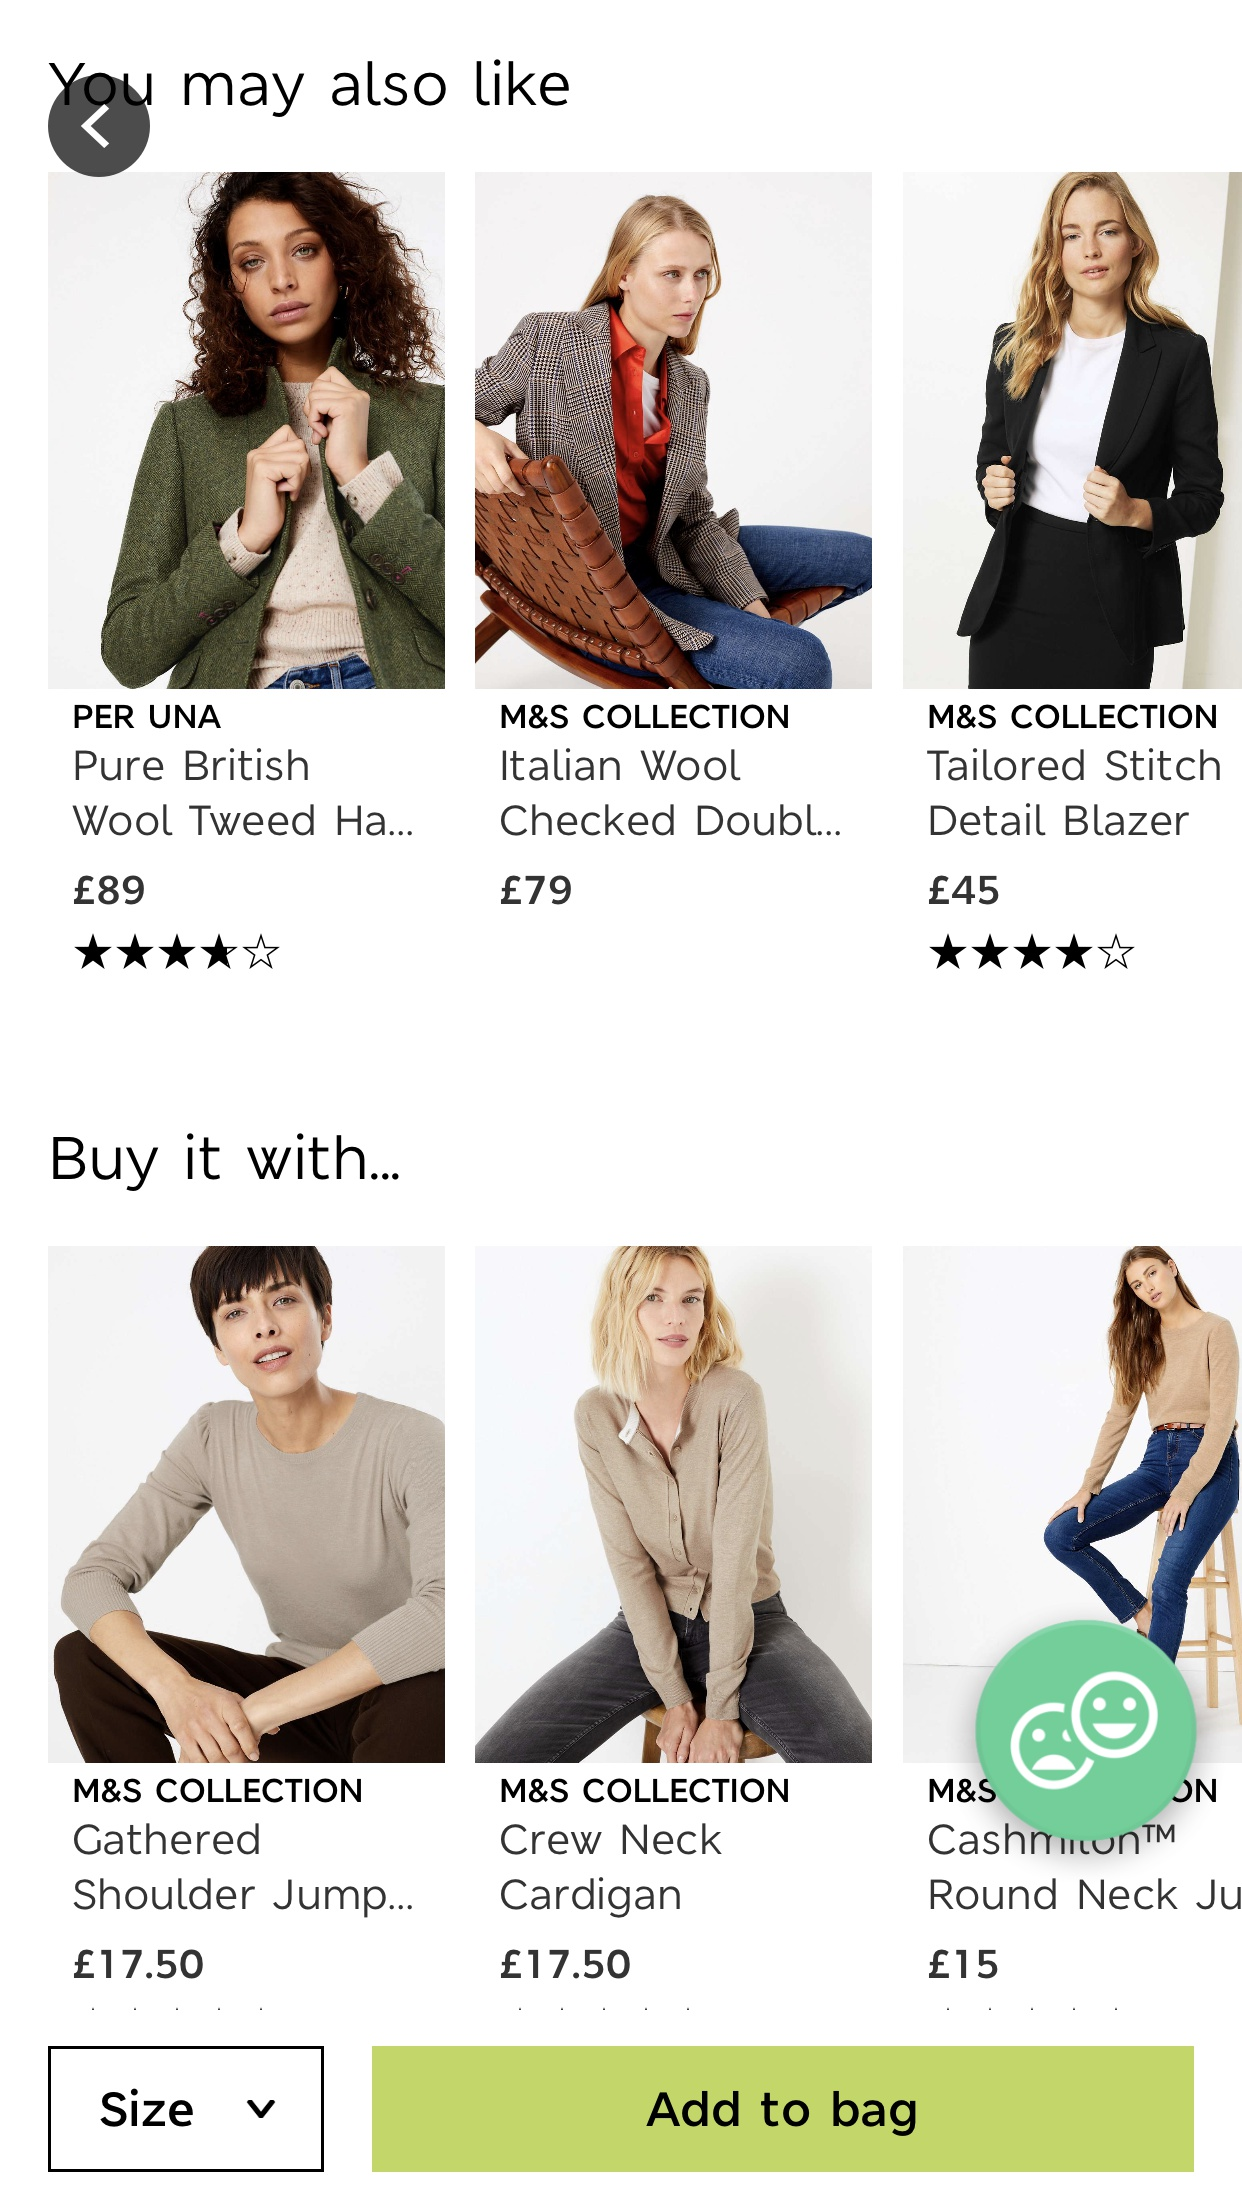Icon: (49, 76, 152, 179), (74, 933, 281, 971), (930, 933, 1136, 971), (247, 2099, 278, 2119)
Image: (475, 1245, 873, 1764), (475, 171, 873, 690), (49, 171, 446, 690), (49, 1247, 446, 1764), (902, 1245, 1242, 1764), (902, 171, 1242, 690), (975, 1620, 1197, 1839)
Text: (49, 62, 573, 118), (53, 1131, 400, 1193), (73, 1876, 414, 1918), (71, 804, 416, 837), (500, 804, 842, 837), (930, 1877, 1242, 1911), (927, 748, 1221, 783), (930, 802, 1190, 839), (500, 1776, 792, 1806), (928, 1821, 1175, 1856), (502, 748, 742, 783), (497, 1818, 723, 1855), (74, 748, 309, 783), (928, 704, 1218, 731), (74, 1777, 362, 1805), (500, 704, 789, 731), (497, 1874, 681, 1917), (73, 1821, 261, 1856), (494, 1947, 632, 1984), (73, 1949, 205, 1981), (102, 2087, 196, 2128), (74, 704, 223, 729), (928, 1947, 999, 1981), (500, 873, 573, 905), (74, 873, 146, 905), (928, 873, 999, 905), (930, 1777, 998, 1803), (1174, 1777, 1218, 1803)
TextButton: (372, 2046, 1195, 2173), (49, 2046, 326, 2173)
